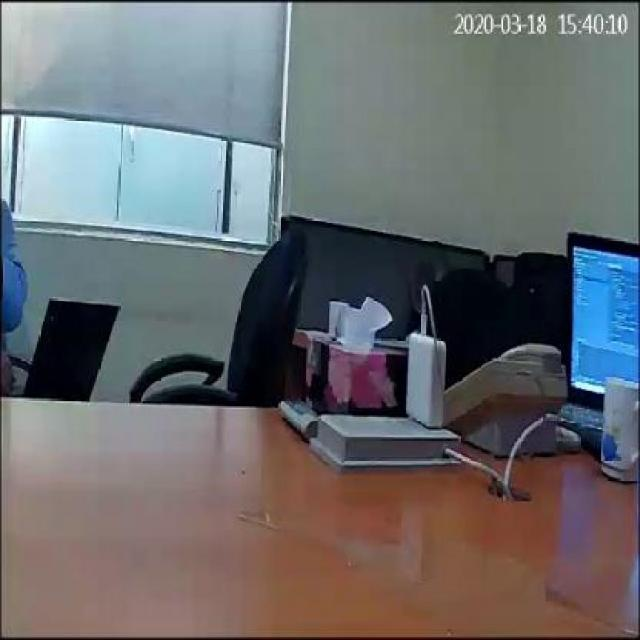spill: (338, 528, 560, 627)
